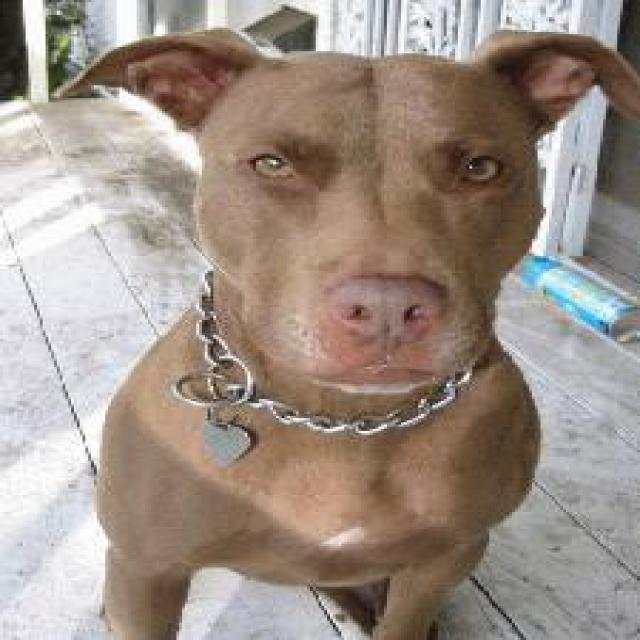dog-american_pit_bull_terrier: (43, 13, 634, 636)
